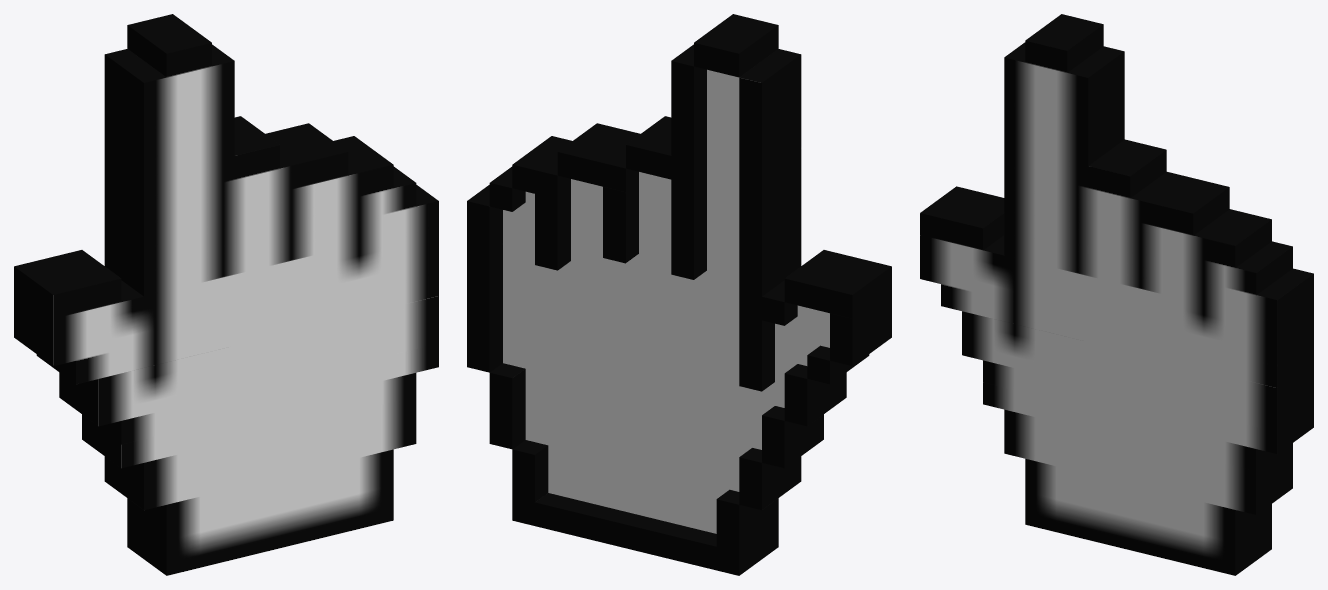
Rendered from mano.glb.
3 renders of one model, left to right at view 1: azimuth 30°, elevation 25°; view 2: azimuth 150°, elevation 25°; view 3: azimuth 330°, elevation 25°, orthographic. The views are drawn at different scales.
Parts seen in each view (by area): view 1: model-material; view 2: model-material; view 3: model-material.
Boxes of the visible parts, x1,y1,x2,y2 form: model-material: (14, 14, 438, 575); model-material: (467, 14, 891, 575); model-material: (920, 14, 1313, 575).
Bounding box in the file's own units: 3.85 × 4.98 × 0.6795.
1 material, 1 textured.
